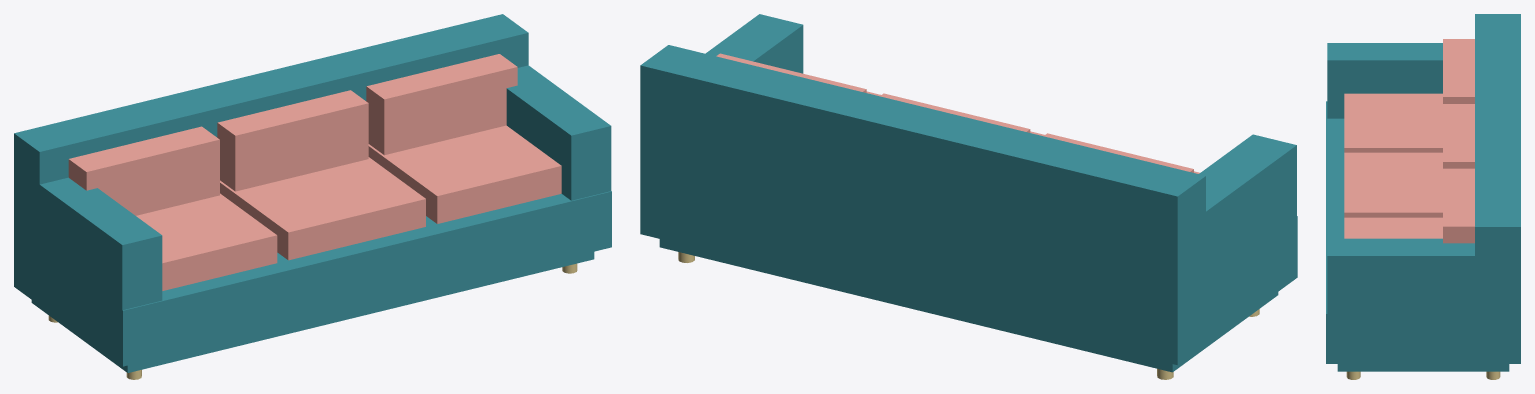
File: bb_set_sofa.fbx
3 views of the same model, side by side, from view 1: azimuth 30°, elevation 25°; view 2: azimuth 150°, elevation 25°; view 3: azimuth 270°, elevation 25° (orthographic). The views are drawn at different scales.
Visible parts, largest first — view 1: bb_set_sofa; view 2: bb_set_sofa; view 3: bb_set_sofa.
Part boxes in pixels (x1,y1,x2,y2): bb_set_sofa: [14, 14, 611, 379]; bb_set_sofa: [640, 14, 1297, 379]; bb_set_sofa: [1326, 14, 1520, 379].
Bounding box in the file's own units: 2.2 × 0.78 × 0.85.
